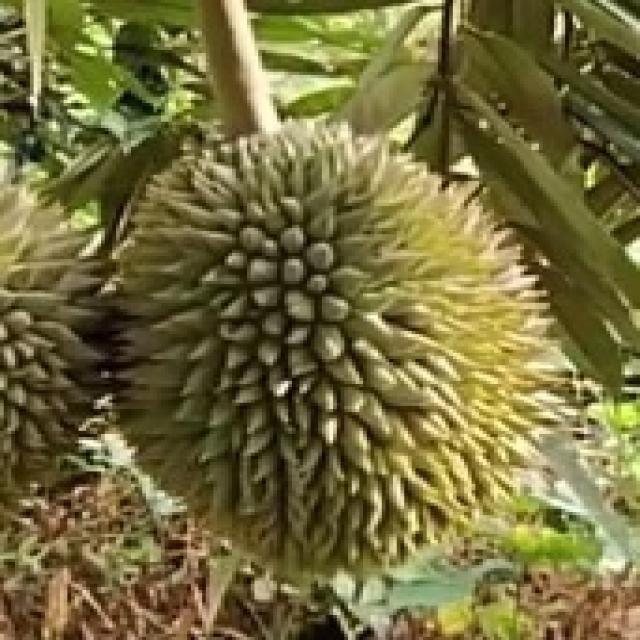immature: (102, 117, 548, 585)
